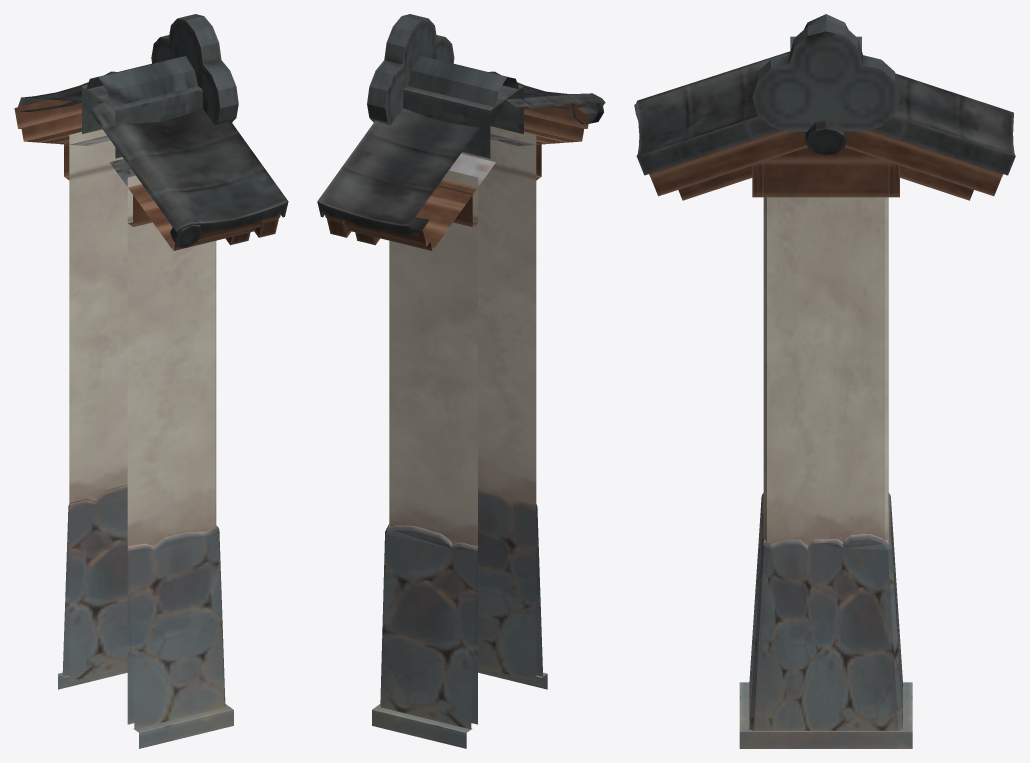
File: WallEndL_03a.fbx
3 views of the same model, side by side, from view 1: azimuth 30°, elevation 25°; view 2: azimuth 150°, elevation 25°; view 3: azimuth 270°, elevation 25° (orthographic). The views are drawn at different scales.
Parts seen in each view (by area): view 1: SM_cmn_build_WallEndL_03a.mo; view 2: SM_cmn_build_WallEndL_03a.mo; view 3: SM_cmn_build_WallEndL_03a.mo.
Boxes of the visible parts, box(x1,y1,x2,y2) form: SM_cmn_build_WallEndL_03a.mo: box(14, 14, 288, 748); SM_cmn_build_WallEndL_03a.mo: box(317, 14, 605, 748); SM_cmn_build_WallEndL_03a.mo: box(634, 14, 1015, 748).
Size of the model in its own units: 68.13 by 352 by 168.
Materials: 2 (2 with a texture image).
